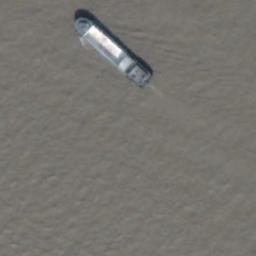boat: (73, 16, 153, 88)
